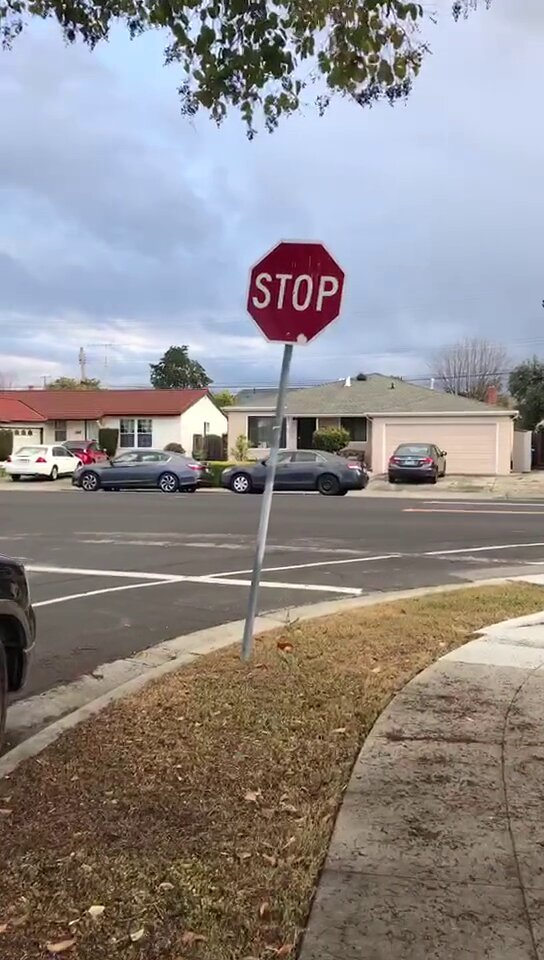stop_sign: (247, 243, 343, 348)
